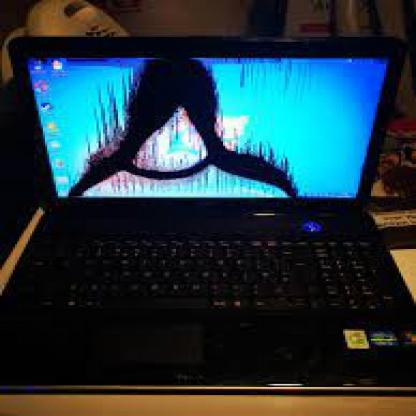crack: (49, 59, 328, 201)
